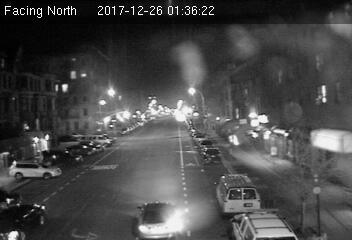car: (135, 200, 181, 237), (201, 147, 224, 165)
truck: (229, 207, 301, 240), (213, 173, 263, 214)
